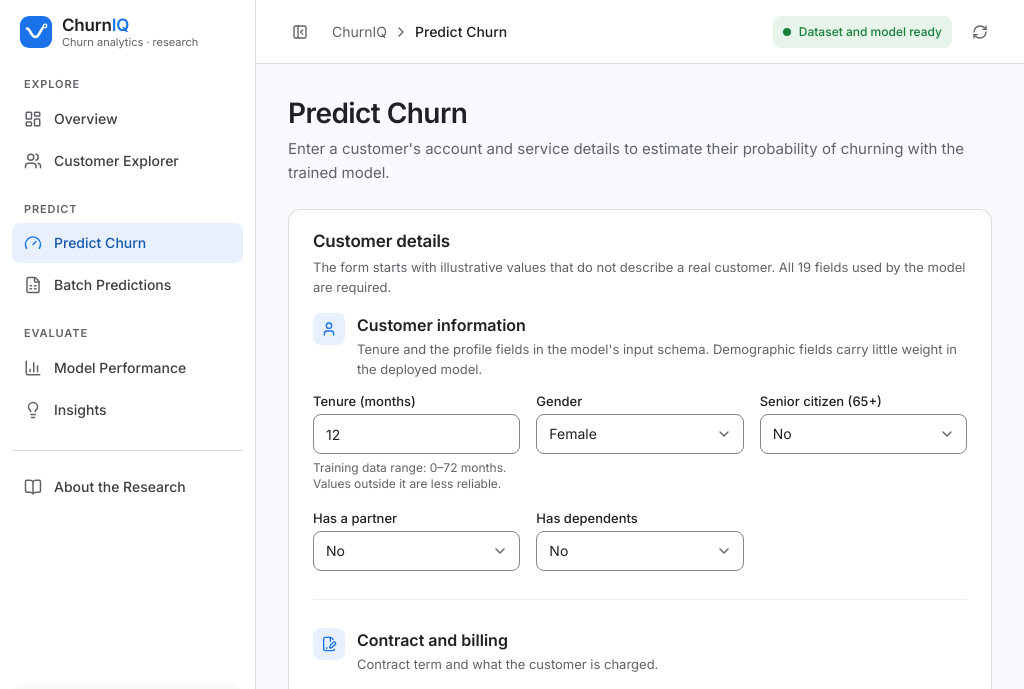
Predict Churn page › blocks submission and marks the field when input is invalid
The width and height of the screenshot is (1024, 689).
Replace the text in the number field labelled "Tenure (months)" with "-5": (417, 434) [313,414,520,454]
(page scrolled)
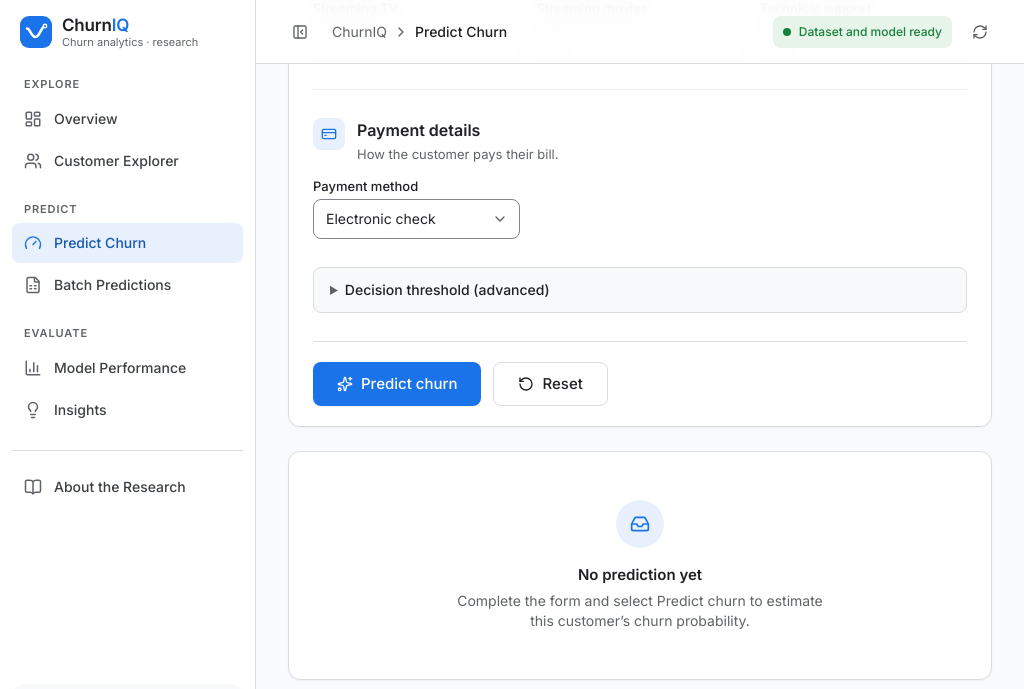
Click the button "Predict churn": (397, 384) [313,362,482,406]
(page scrolled)
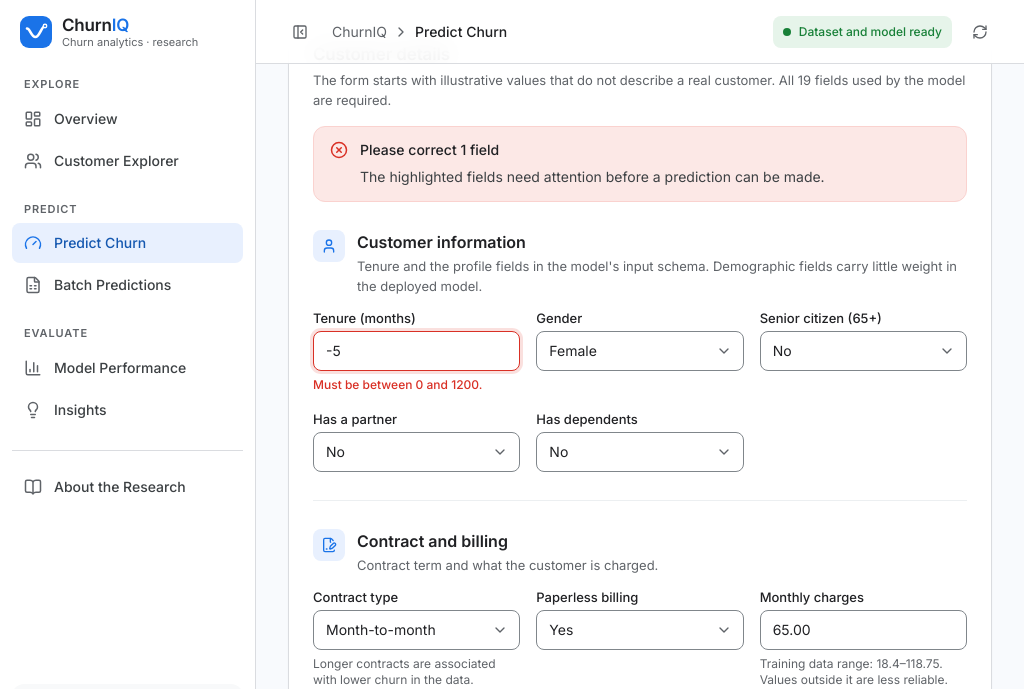
Expected: the text "Must be between 0 and 1200." is shown, [313,377,482,392]
